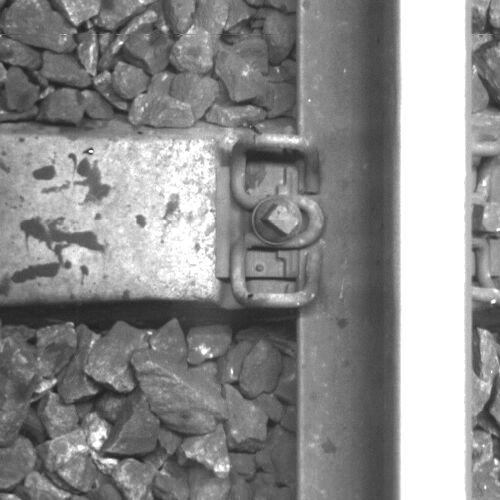rail: (394, 1, 473, 500)
tie_concr: (1, 133, 296, 303)
vossloh: (217, 132, 325, 308)
